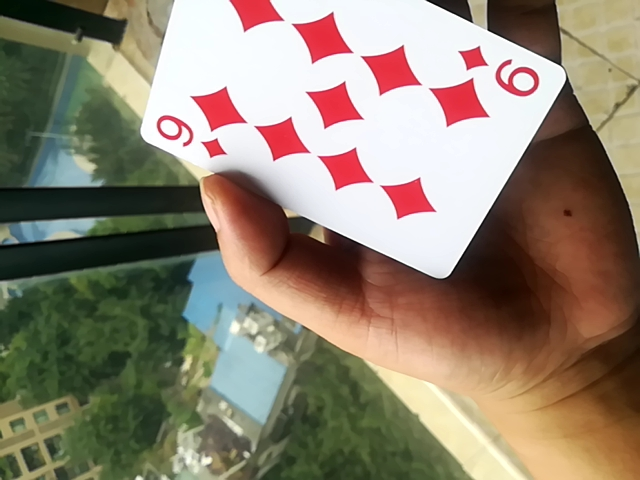fk 9: (133, 2, 570, 283)
